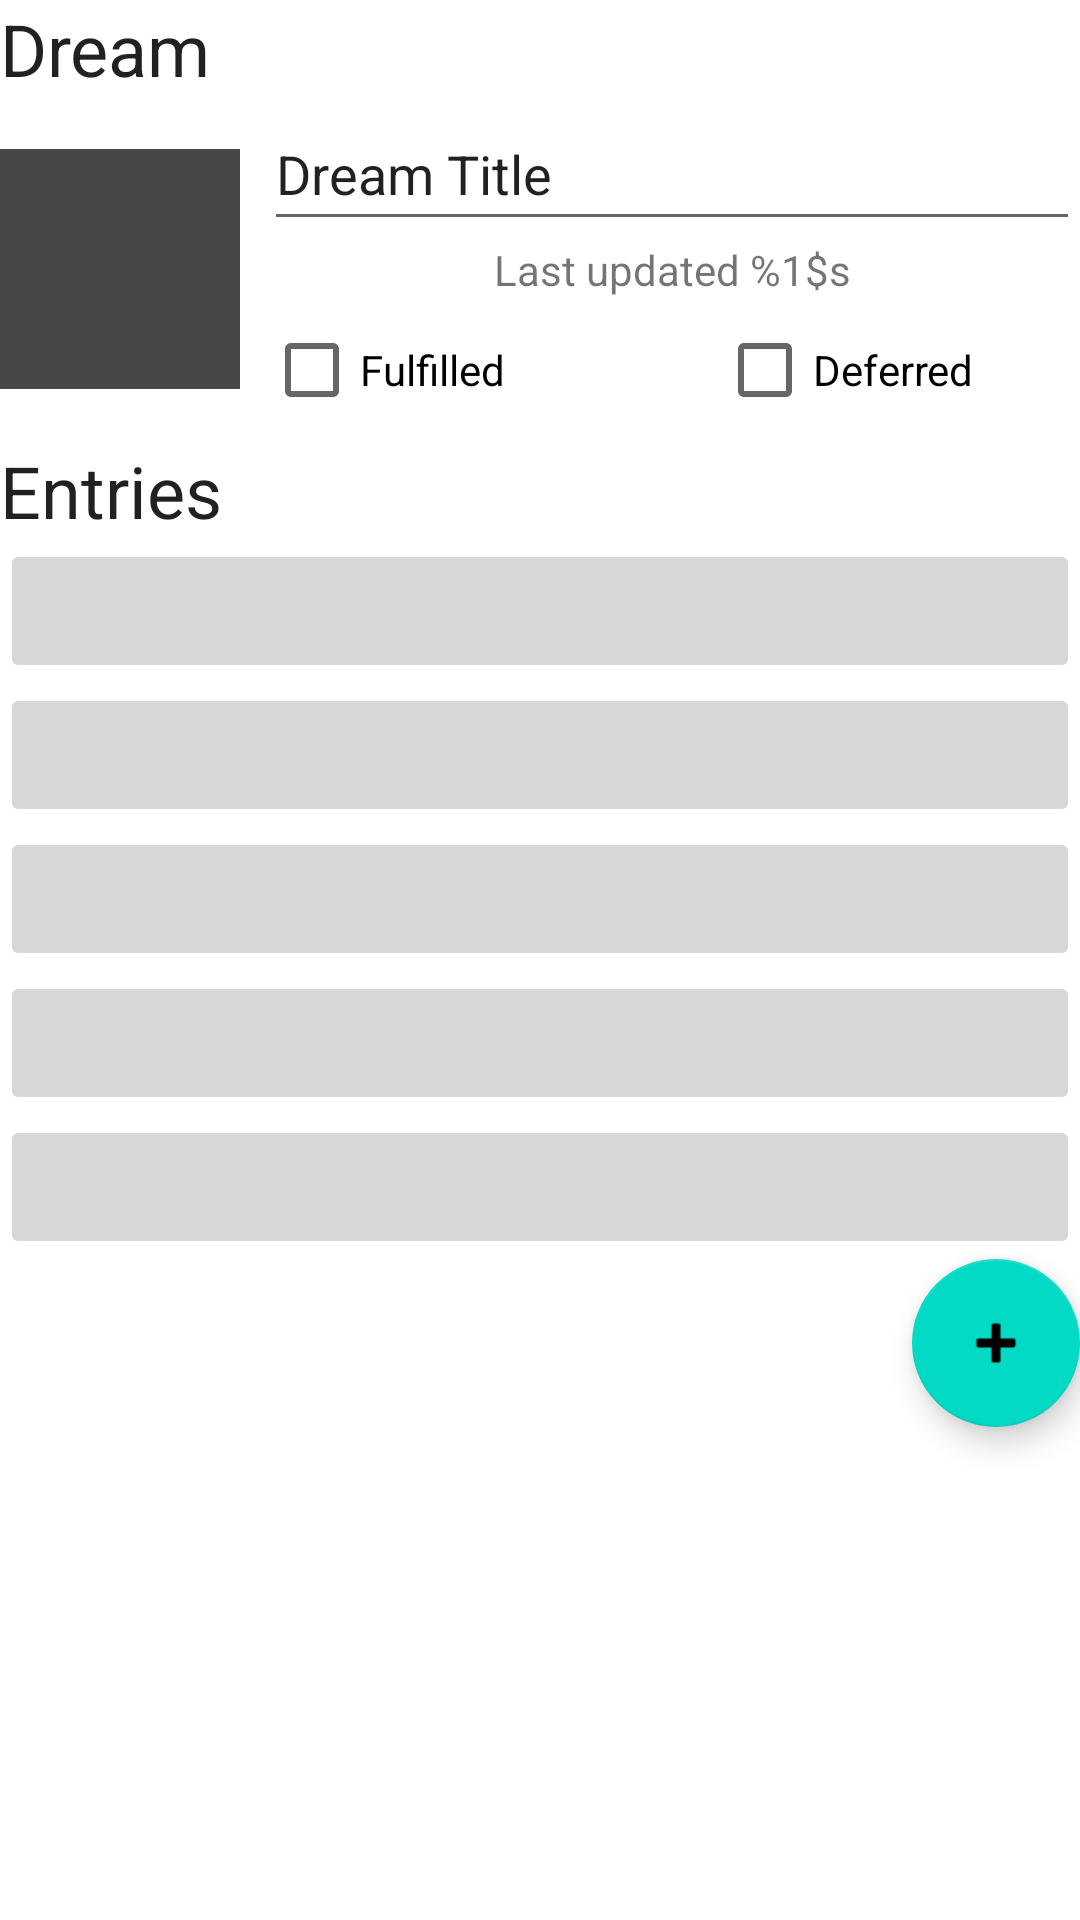

Locate icon controls on the screen. Image size 1080 x 1920, boxes as (x1=x1, y1=y1, x2=x2, y2=y2).
add: (x1=912, y1=1259, x2=1080, y2=1427)
